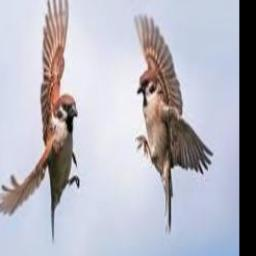Sparrow: (0, 0, 81, 241), (134, 13, 214, 236)
